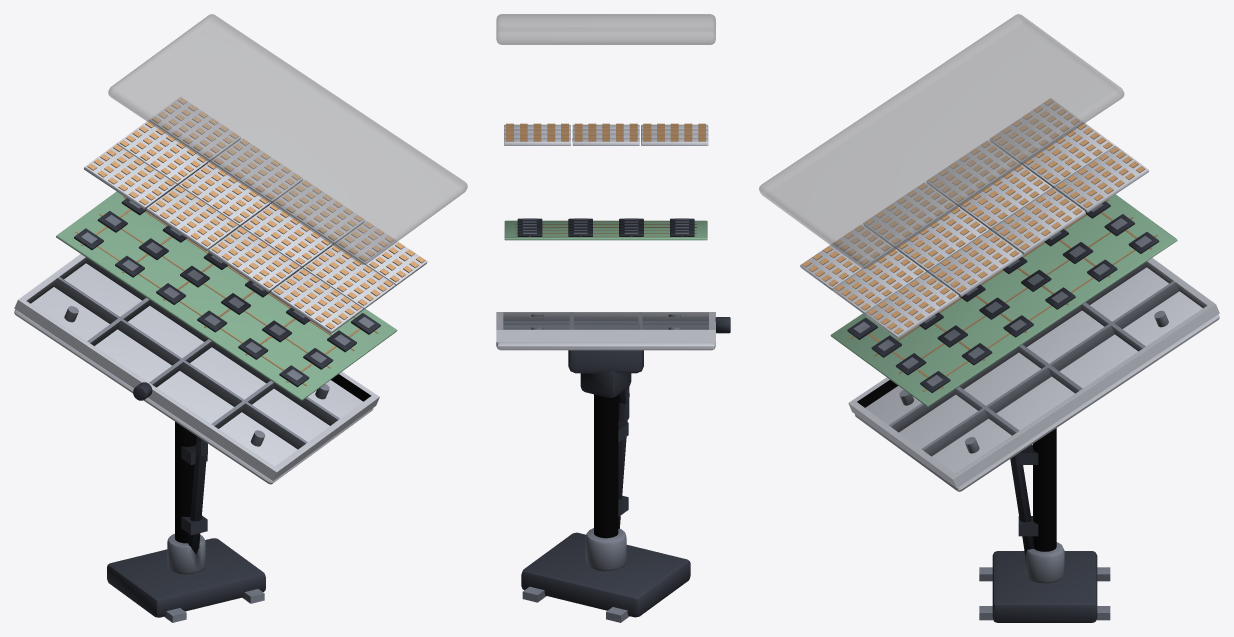
The model's file is terminal.detail.glb.
The picture shows the model from 3 angles, left to right: view 1: azimuth 30°, elevation 25°; view 2: azimuth 150°, elevation 25°; view 3: azimuth 270°, elevation 25°; orthographic projection. The views are drawn at different scales.
Visible parts, largest first — view 1: terminal.cover.ghost, terminal.chassis.light, terminal.tiles.light, terminal.circuit.foliage, terminal.tiles.warm, terminal.chassis.graphite, terminal.chassis.mid, terminal.circuit.graphite, terminal.chassis.metal, terminal.circuit.metal, terminal.circuit.warm; view 2: terminal.chassis.graphite, terminal.cover.ghost, terminal.chassis.light, terminal.chassis.metal, terminal.chassis.mid, terminal.circuit.foliage, terminal.tiles.light, terminal.tiles.warm, terminal.circuit.graphite, terminal.circuit.metal, terminal.circuit.warm; view 3: terminal.cover.ghost, terminal.chassis.light, terminal.tiles.light, terminal.circuit.foliage, terminal.tiles.warm, terminal.chassis.graphite, terminal.chassis.mid, terminal.circuit.graphite, terminal.chassis.metal, terminal.circuit.metal, terminal.circuit.warm.
Part boxes in pixels (x1,y1,x2,y2): terminal.cover.ghost: (108, 14, 467, 264); terminal.chassis.light: (14, 254, 379, 484); terminal.tiles.light: (84, 97, 427, 333); terminal.circuit.foliage: (56, 185, 397, 400); terminal.tiles.warm: (87, 97, 425, 329); terminal.chassis.graphite: (107, 382, 265, 617); terminal.chassis.mid: (54, 259, 339, 449); terminal.circuit.graphite: (74, 190, 380, 387); terminal.chassis.metal: (164, 422, 264, 622); terminal.circuit.metal: (81, 200, 374, 380); terminal.circuit.warm: (75, 196, 378, 385); terminal.chassis.graphite: (521, 317, 730, 617); terminal.cover.ghost: (496, 14, 715, 44); terminal.chassis.light: (496, 312, 715, 350); terminal.chassis.metal: (522, 394, 629, 622); terminal.chassis.mid: (503, 312, 708, 329); terminal.circuit.foliage: (504, 220, 707, 240); terminal.tiles.light: (504, 124, 708, 145); terminal.tiles.warm: (506, 123, 705, 141); terminal.circuit.graphite: (517, 218, 694, 236); terminal.circuit.metal: (523, 218, 688, 233); terminal.circuit.warm: (515, 221, 697, 237); terminal.cover.ghost: (759, 14, 1124, 268); terminal.chassis.light: (848, 257, 1219, 491); terminal.tiles.light: (800, 98, 1148, 338); terminal.circuit.foliage: (830, 187, 1177, 406); terminal.tiles.warm: (802, 99, 1145, 334); terminal.chassis.graphite: (992, 444, 1097, 622); terminal.chassis.mid: (889, 263, 1179, 456); terminal.circuit.graphite: (847, 192, 1159, 392); terminal.chassis.metal: (979, 428, 1110, 620); terminal.circuit.metal: (853, 203, 1151, 386); terminal.circuit.warm: (849, 199, 1157, 391).
Size of the model in its own units: 0.5896 by 0.9106 by 0.7035.
